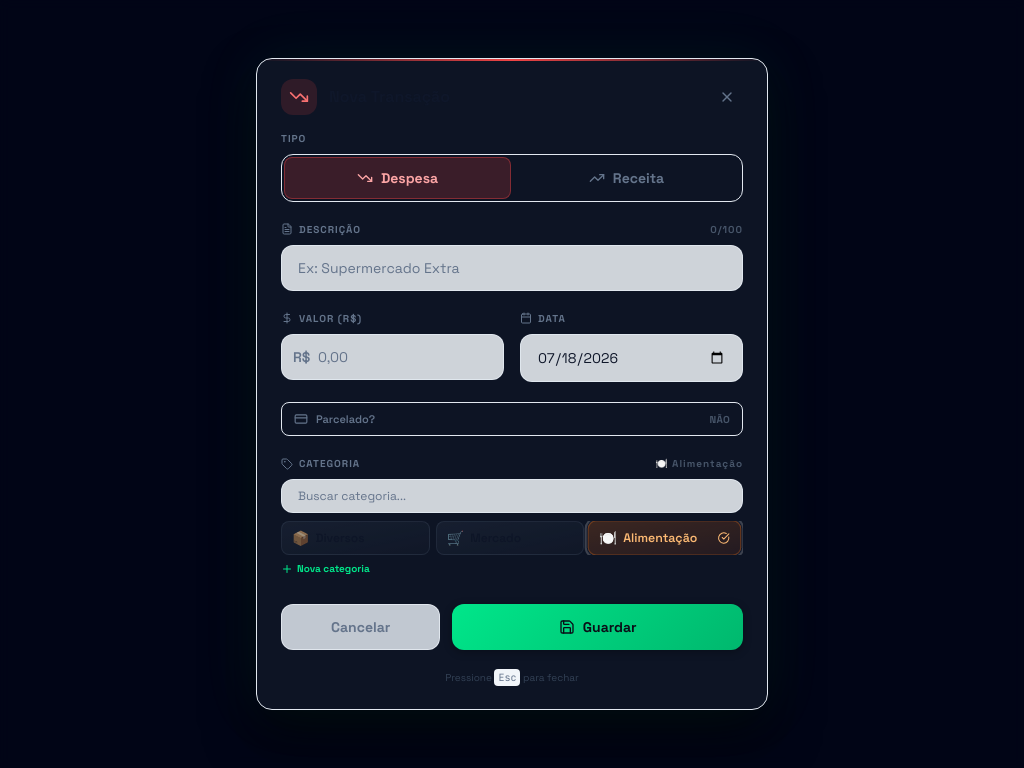
Scenario: TransactionForm › rejeita valor monetário inválido
The image size is (1024, 768).
Type "Mercado" into the field with placeholder "Ex: Supermercado Extra" at (512, 268), box [281,245,743,291]
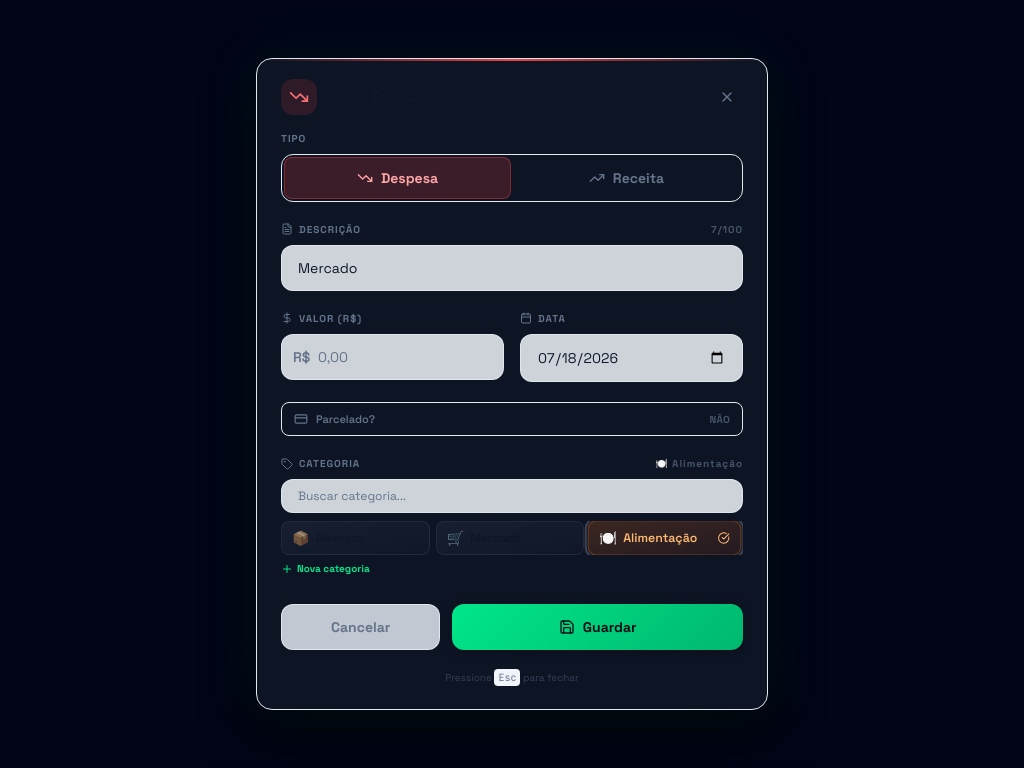
Type "abc" into the field labelled "Valor (R$)" at (392, 357), box [281,334,504,380]
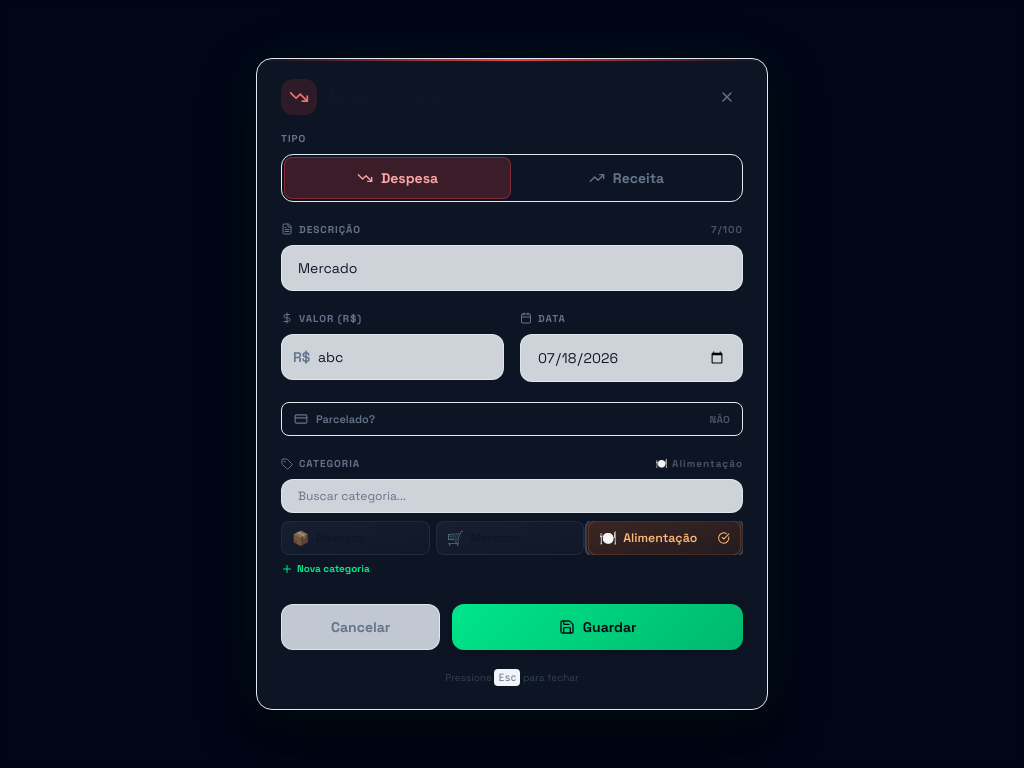
Click the button "Guardar" at (598, 627), box [452,604,743,650]
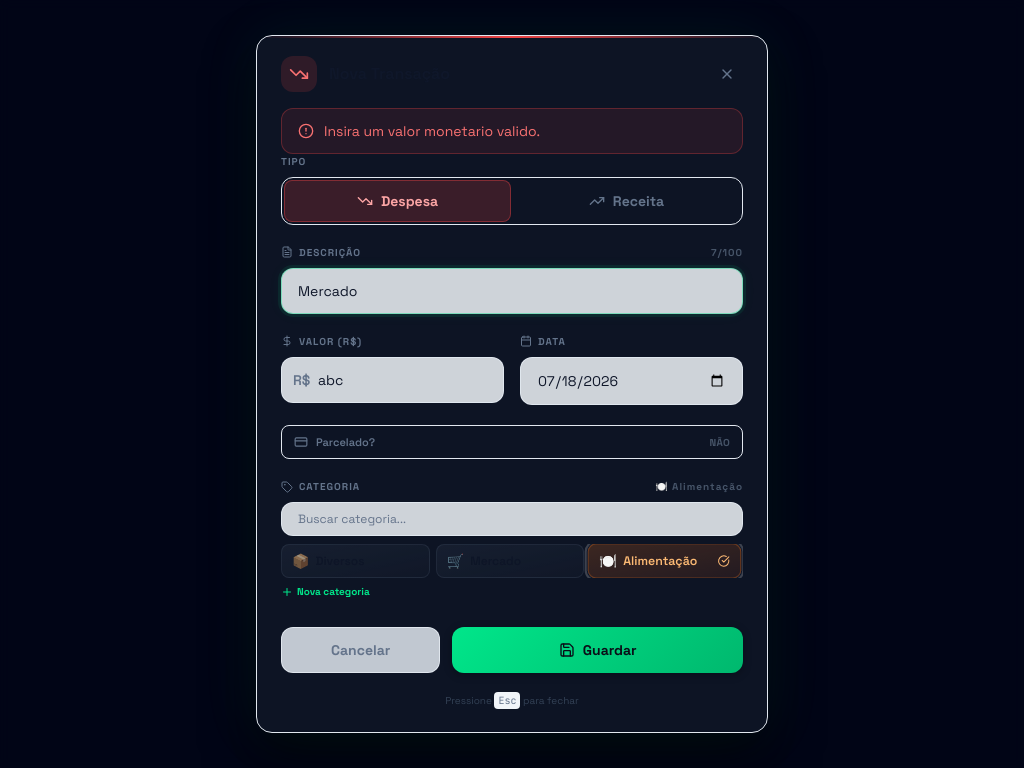
Expected: the text "Insira um valor monetario valido." is shown, [281,108,743,154]
